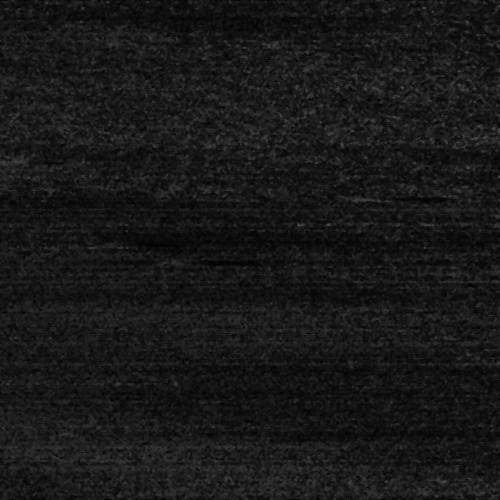object: (138, 257, 191, 262), (339, 193, 380, 198)
shadow: (360, 193, 427, 198), (164, 257, 222, 262)
